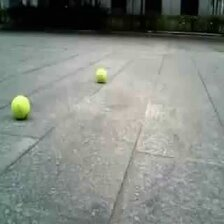tennis: (11, 96, 30, 116), (96, 69, 106, 82)
